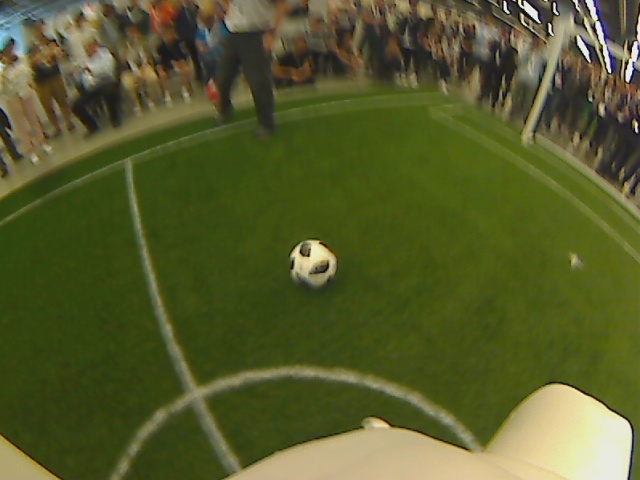ball: (287, 239, 338, 288)
